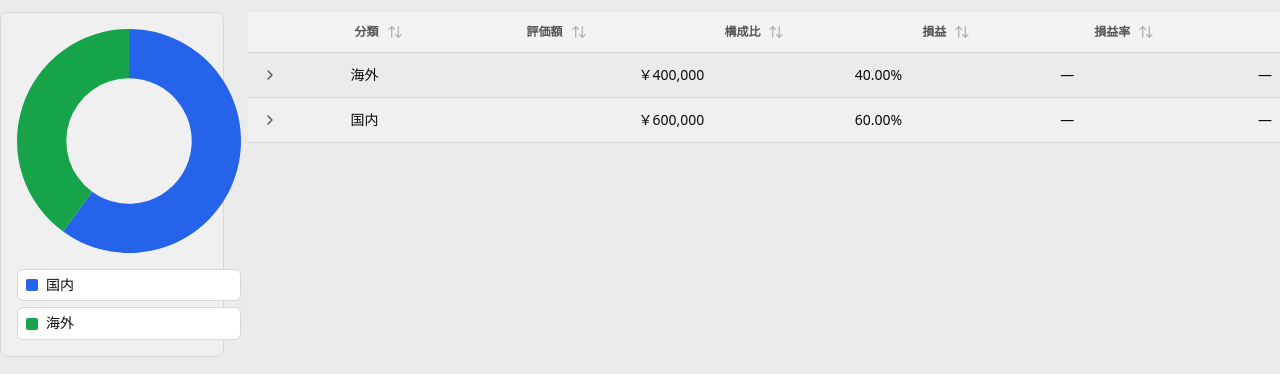
Test case: AllocationPanel › renders portfolio column in breakdown when enabled
What coordinates should you click on to do the following:
click the button named "海外 の内訳を開く"
I would click on:
 (270, 74)
Its box is left=256, top=60, right=284, bottom=88.
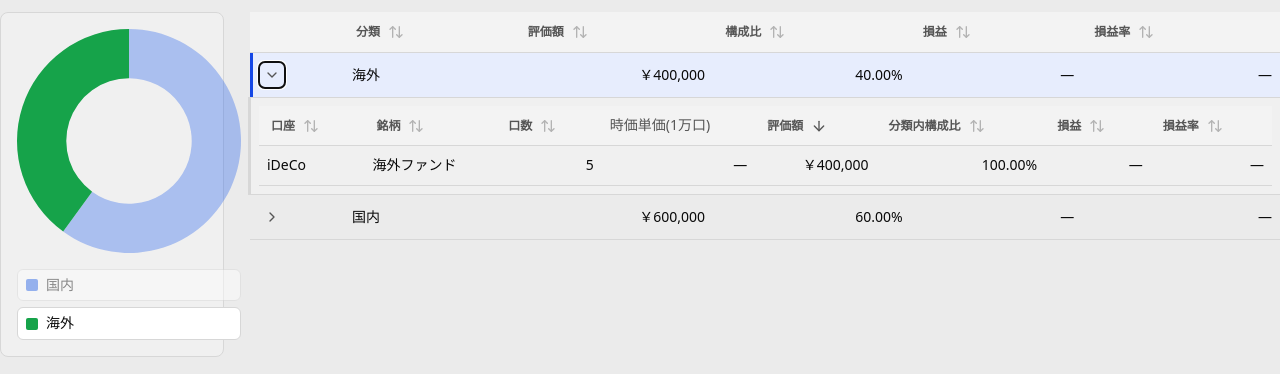
Now the column heading "口座" is shown, box left=259, top=106, right=364, bottom=146
Now the text "iDeCo" is shown, box left=259, top=146, right=364, bottom=185
